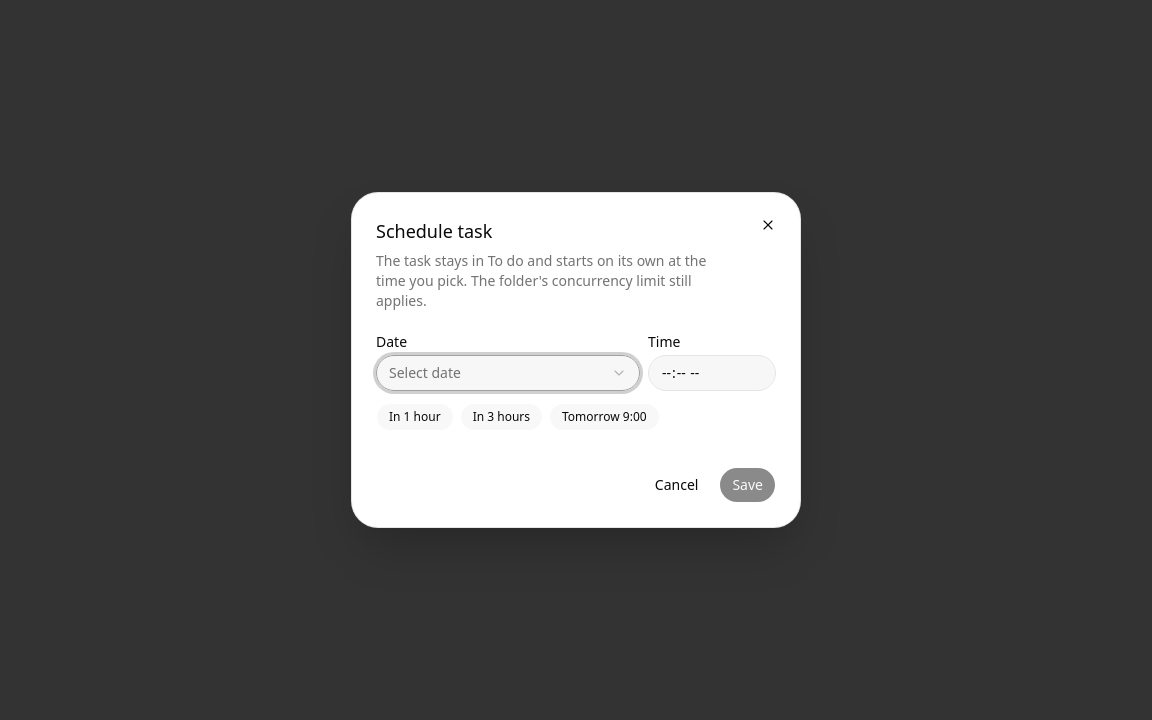
Test: TaskScheduleDialog › applies a preset to both fields
Click the button "Tomorrow 9:00": click(604, 417) 549,403 -> 660,431
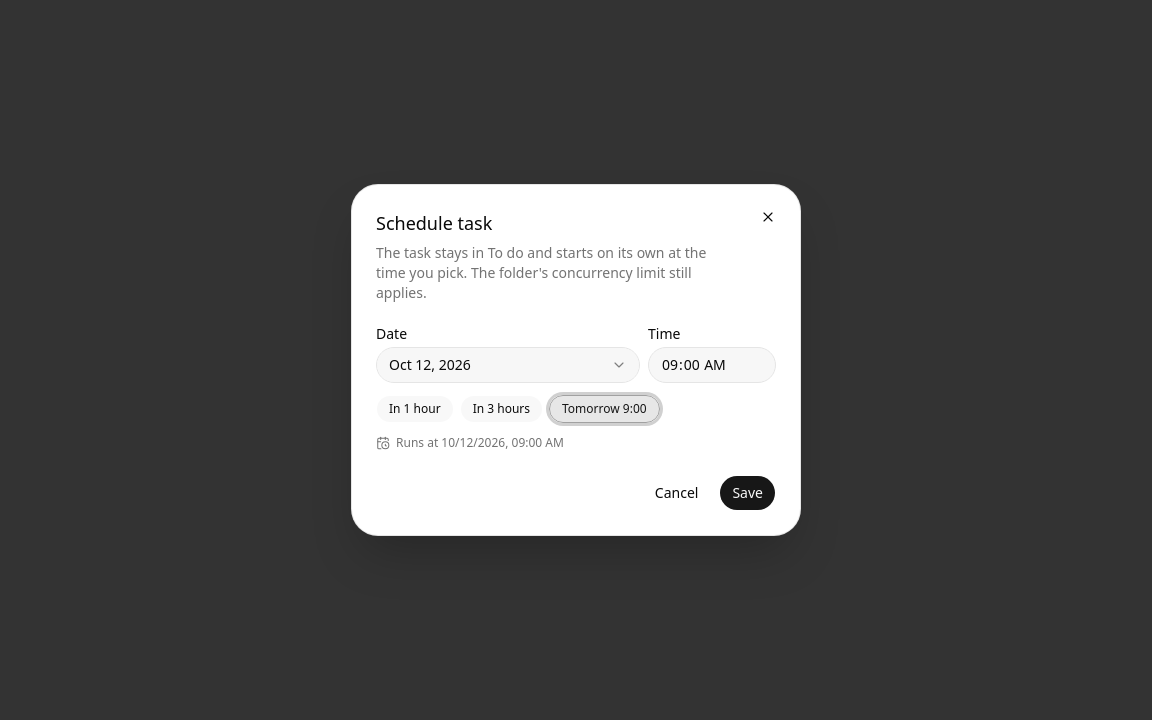
Expected: the time field labelled "Time" holds "09:00", 648,347 -> 776,383
